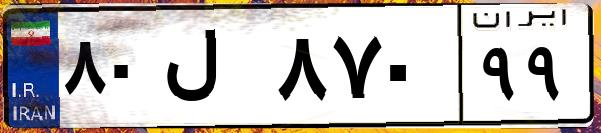0: (385, 28, 445, 110), (110, 28, 158, 98)
7: (330, 28, 385, 110)
8: (270, 28, 330, 110), (57, 26, 110, 100)
9: (475, 38, 525, 113), (525, 38, 570, 115)
ل: (158, 20, 270, 120)
